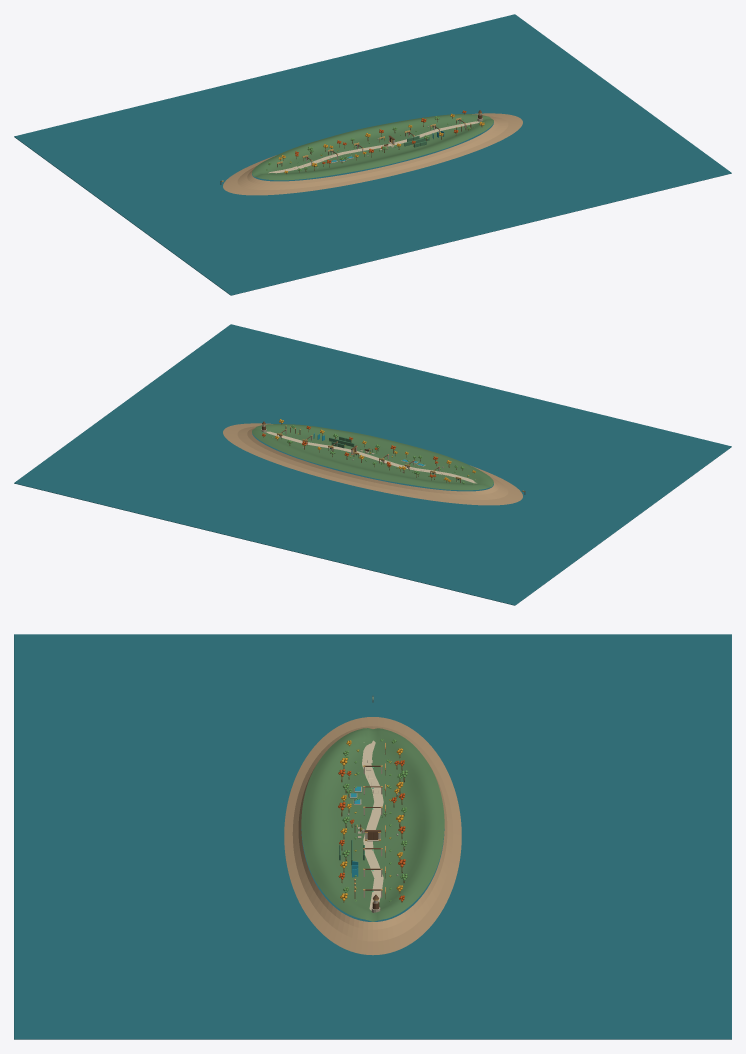
The model's file is Lerninsel_World_Prototype_V1.fbx.
3 views of the same model, one above another, from view 1: azimuth 30°, elevation 25°; view 2: azimuth 150°, elevation 25°; view 3: azimuth 270°, elevation 25° (orthographic). The views are drawn at different scales.
Parts seen in each view (by area): view 1: Ocean | calm surrounding water, Island | elliptical grassy plateau, Island | sandstone cliff band 3, Island | sandstone cliff band 2, Island | sandstone cliff band 1, Path | winding limestone trail; view 2: Ocean | calm surrounding water, Island | elliptical grassy plateau, Island | sandstone cliff band 3, Island | sandstone cliff band 2, Island | sandstone cliff band 1, Path | winding limestone trail; view 3: Ocean | calm surrounding water, Island | elliptical grassy plateau, Island | sandstone cliff band 3, Island | sandstone cliff band 2, Island | sandstone cliff band 1, Path | winding limestone trail.
Part boxes in pixels (left/top/right/bottom): Ocean | calm surrounding water: left=14, top=14, right=731, bottom=295; Island | elliptical grassy plateau: left=252, top=114, right=493, bottom=180; Island | sandstone cliff band 3: left=223, top=113, right=522, bottom=195; Island | sandstone cliff band 2: left=237, top=116, right=508, bottom=189; Island | sandstone cliff band 1: left=247, top=118, right=498, bottom=184; Path | winding limestone trail: left=268, top=121, right=479, bottom=173; Ocean | calm surrounding water: left=14, top=324, right=731, bottom=605; Island | elliptical grassy plateau: left=252, top=424, right=493, bottom=490; Island | sandstone cliff band 3: left=223, top=423, right=522, bottom=505; Island | sandstone cliff band 2: left=237, top=426, right=508, bottom=499; Island | sandstone cliff band 1: left=247, top=428, right=498, bottom=494; Path | winding limestone trail: left=266, top=431, right=476, bottom=483; Ocean | calm surrounding water: left=14, top=634, right=731, bottom=1039; Island | elliptical grassy plateau: left=301, top=728, right=444, bottom=921; Island | sandstone cliff band 3: left=284, top=717, right=461, bottom=955; Island | sandstone cliff band 2: left=292, top=726, right=453, bottom=941; Island | sandstone cliff band 1: left=298, top=759, right=447, bottom=929; Path | winding limestone trail: left=362, top=740, right=383, bottom=910.
Bounding box in the file's own units: 320 × 11.1 × 240.
